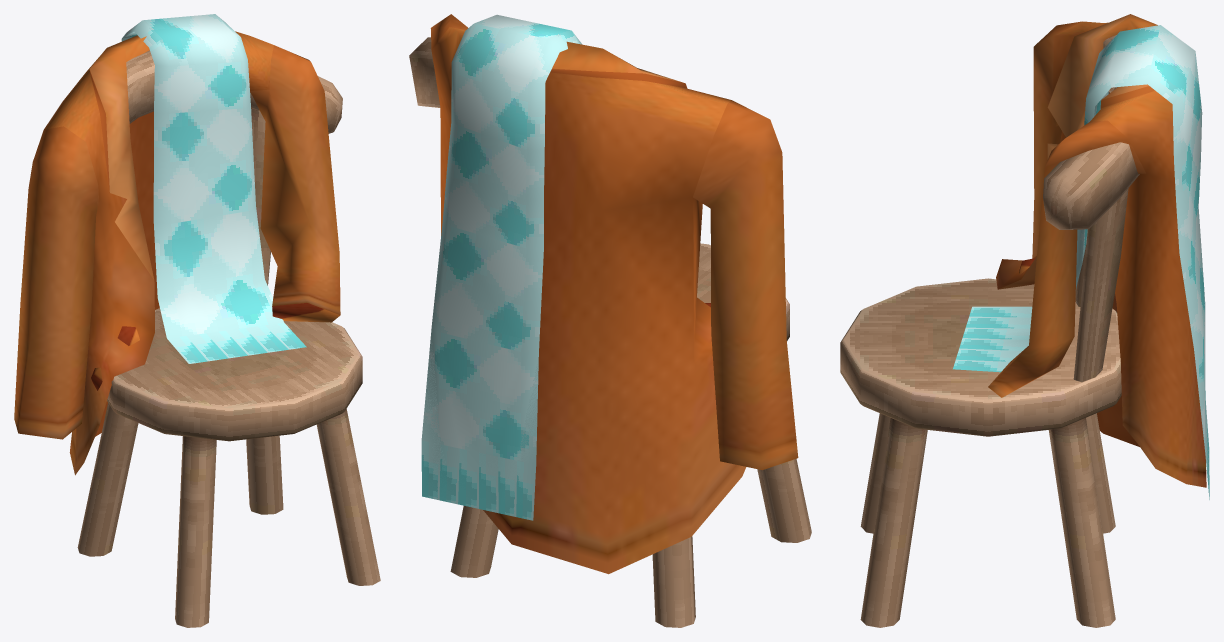
The model's file is rmk_lse_chairS.dae.
The picture shows the model from 3 angles, left to right: view 1: azimuth 30°, elevation 25°; view 2: azimuth 150°, elevation 25°; view 3: azimuth 270°, elevation 25°; orthographic projection. The views are drawn at different scales.
Visible parts, largest first — view 1: rmk_lse_chairS; view 2: rmk_lse_chairS; view 3: rmk_lse_chairS.
Part boxes in pixels (bbox=[...]): rmk_lse_chairS: bbox=[14, 14, 380, 627]; rmk_lse_chairS: bbox=[409, 14, 811, 627]; rmk_lse_chairS: bbox=[840, 14, 1209, 627].
Size of the model in its own units: 25.7 by 37.17 by 22.9.
3 materials, 3 textured.
